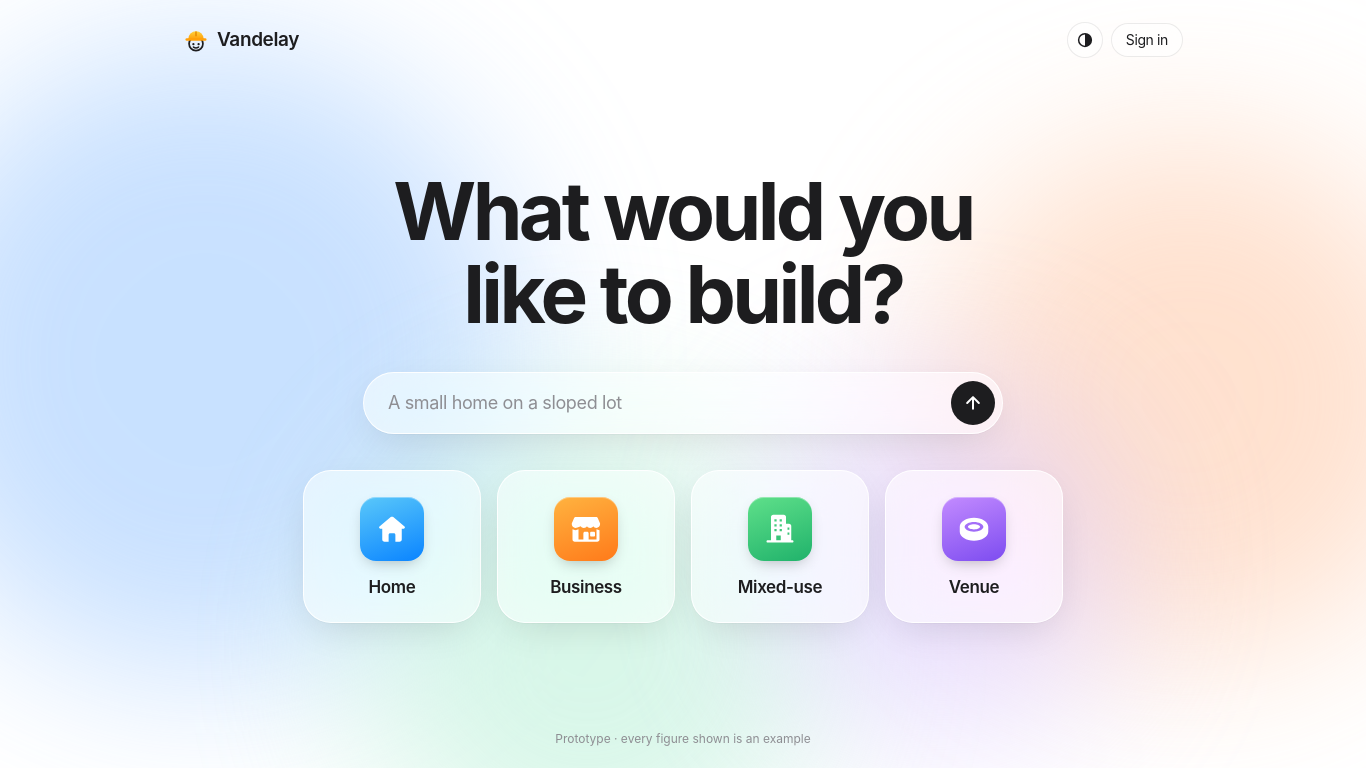
workspace › selects an option and switches category in place
Click the button "Home": point(392, 547) x1=303 y1=470 x2=481 y2=623
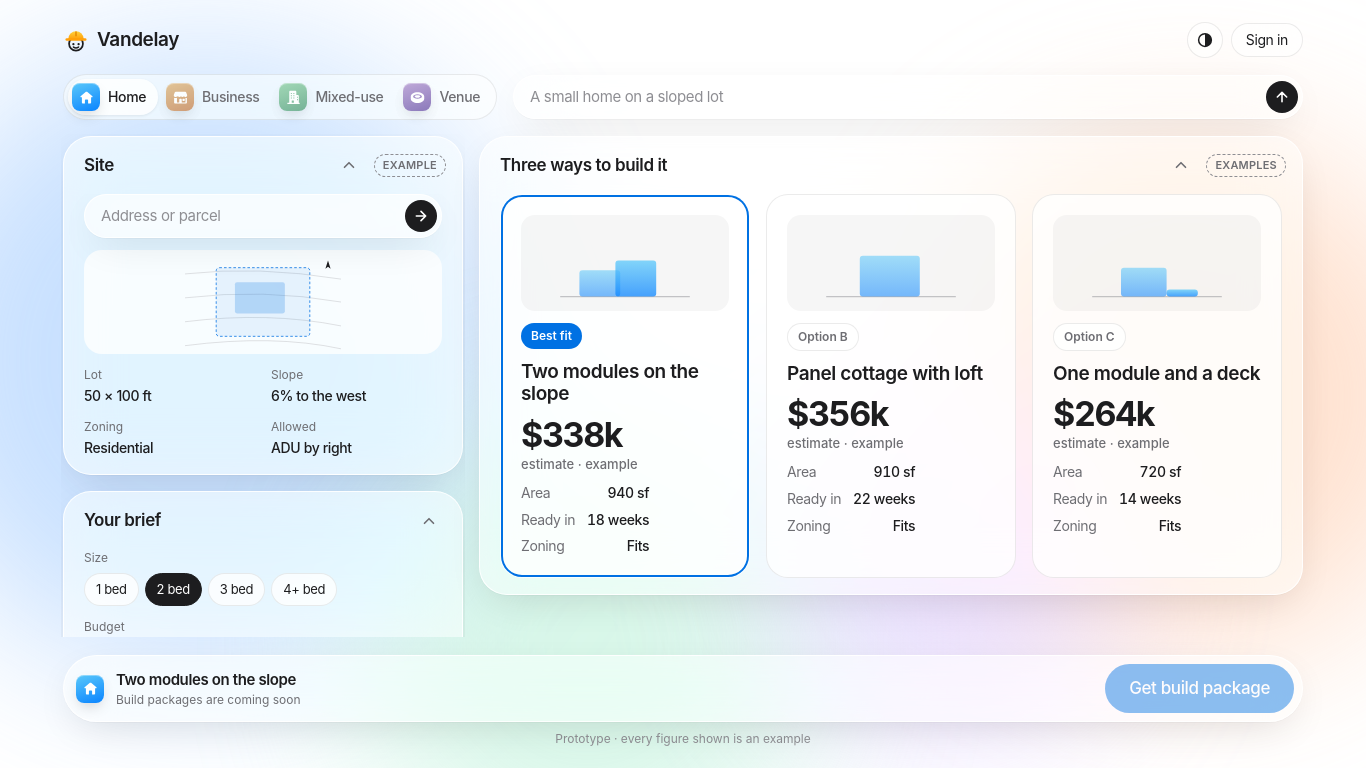
Click the radio button labelled "One module and a deck": point(1157, 386) x1=1032 y1=194 x2=1282 y2=578
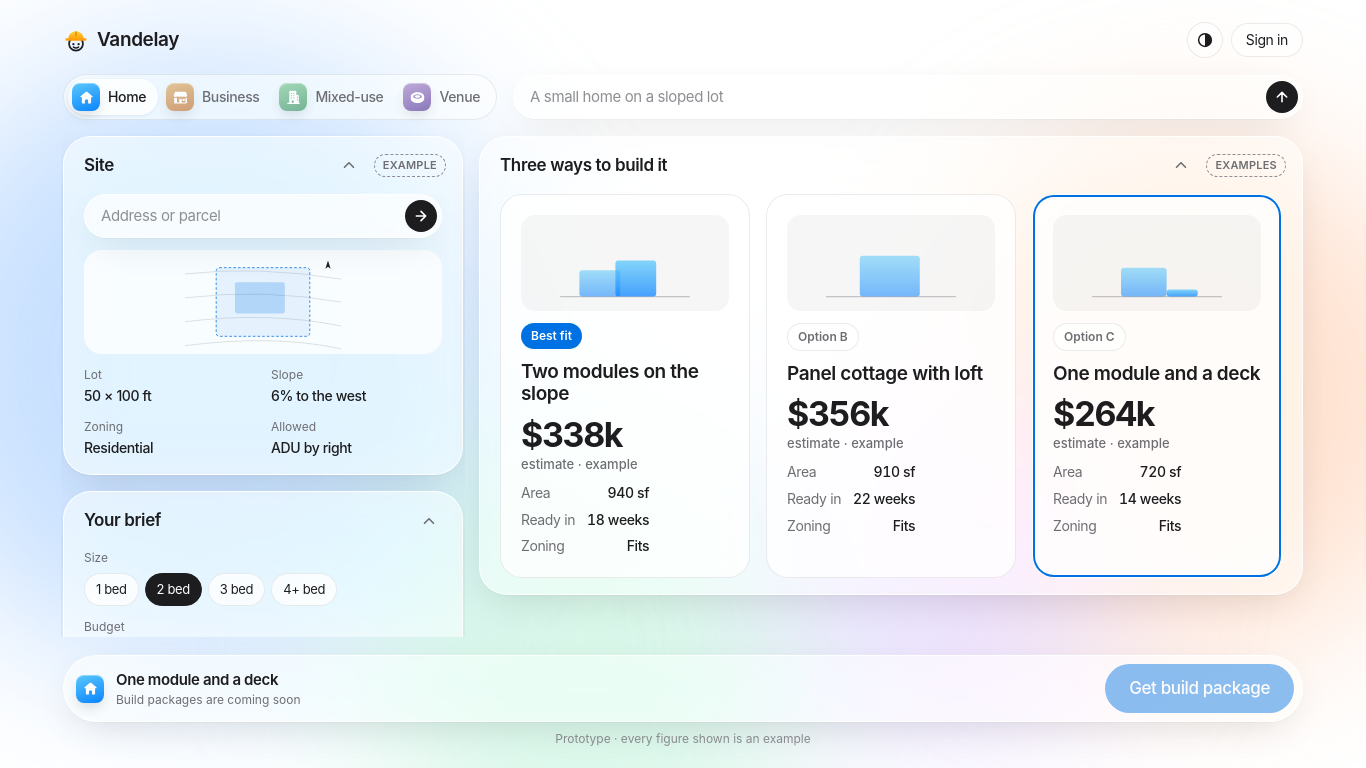
Now the radio button labelled "One module and a deck" is checked, box x1=1032 y1=194 x2=1282 y2=578
Click the radio button labelled "Mixed-use": point(336, 97) x1=276 y1=79 x2=396 y2=115
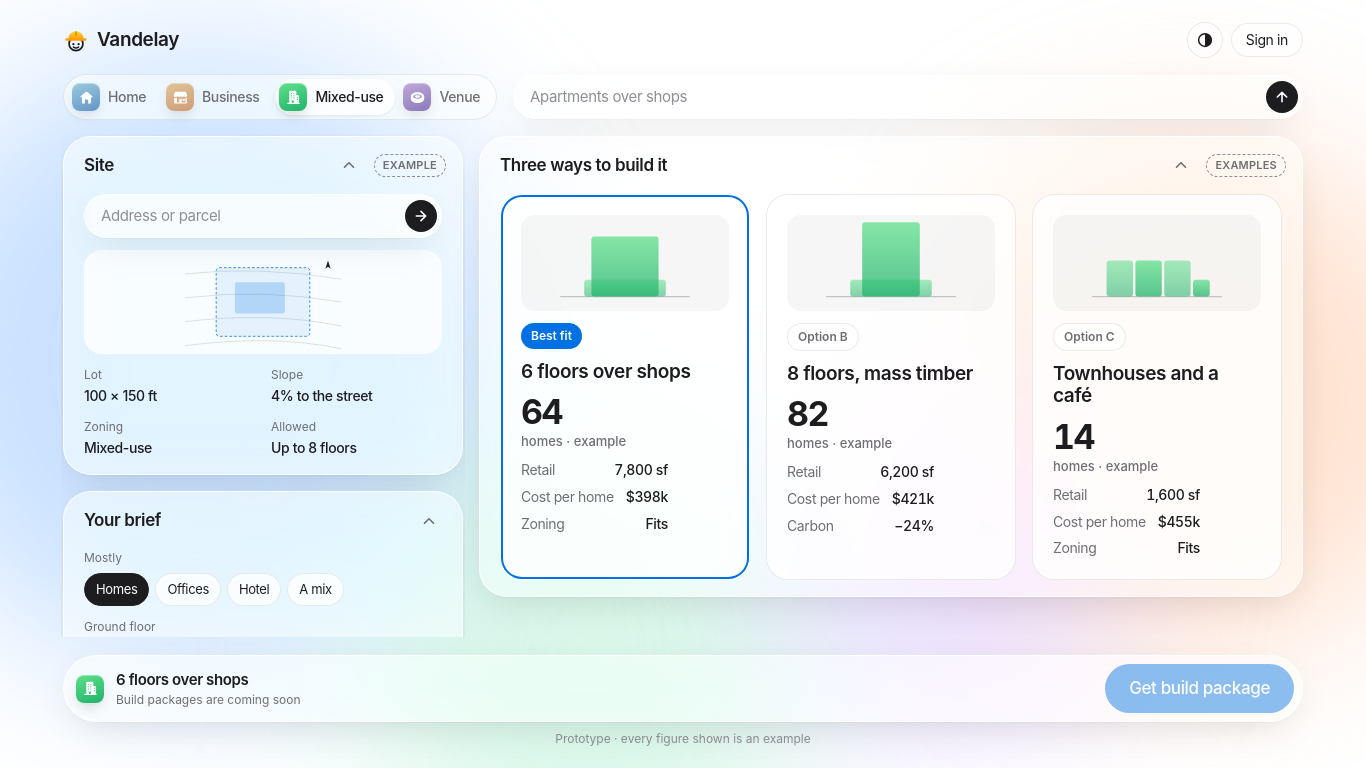
Now the radio button labelled "6 floors over shops" is shown, box x1=500 y1=194 x2=750 y2=580
